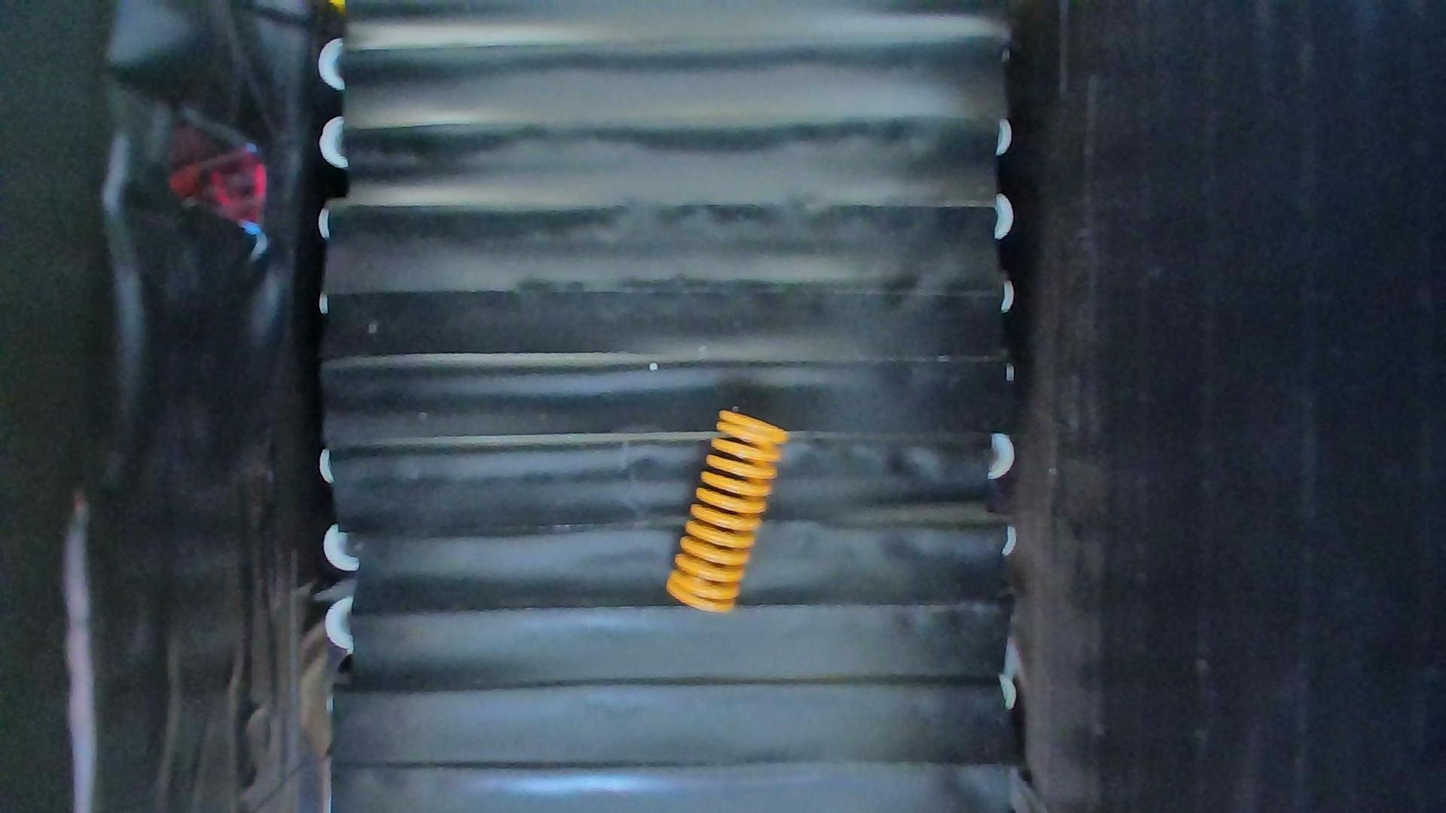spring: (665, 410, 787, 614)
